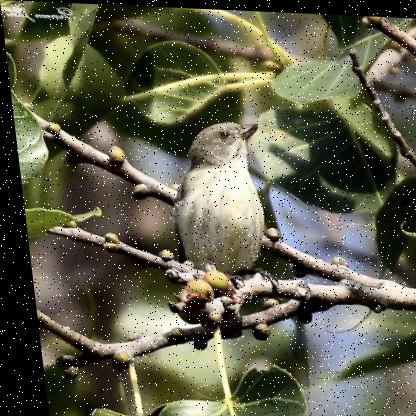Burung: (147, 113, 278, 299)
